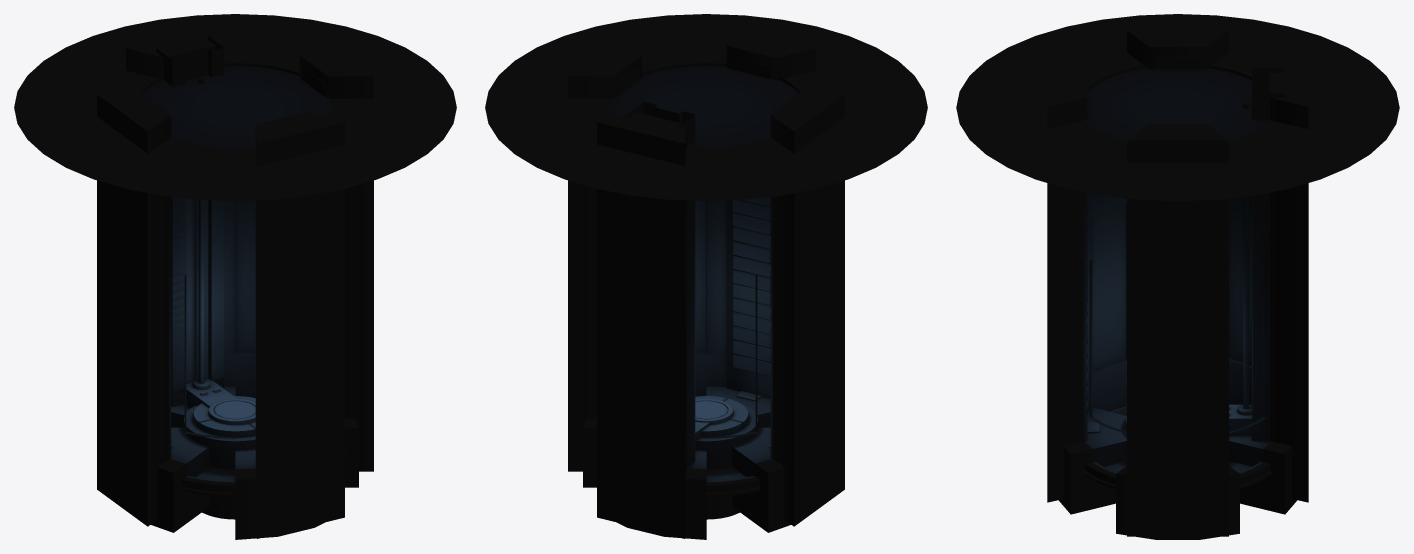
Rendered from engine.dae.
3 renders of one model, left to right at view 1: azimuth 30°, elevation 25°; view 2: azimuth 150°, elevation 25°; view 3: azimuth 270°, elevation 25°, orthographic.
Visible parts, largest first — view 1: engine; view 2: engine; view 3: engine.
Part boxes in pixels (<box>): engine: <box>14,14,456,539</box>; engine: <box>485,14,927,539</box>; engine: <box>956,14,1399,539</box>.
Size of the model in its own units: 200 by 210 by 200.
Materials: 1 (1 with a texture image).
